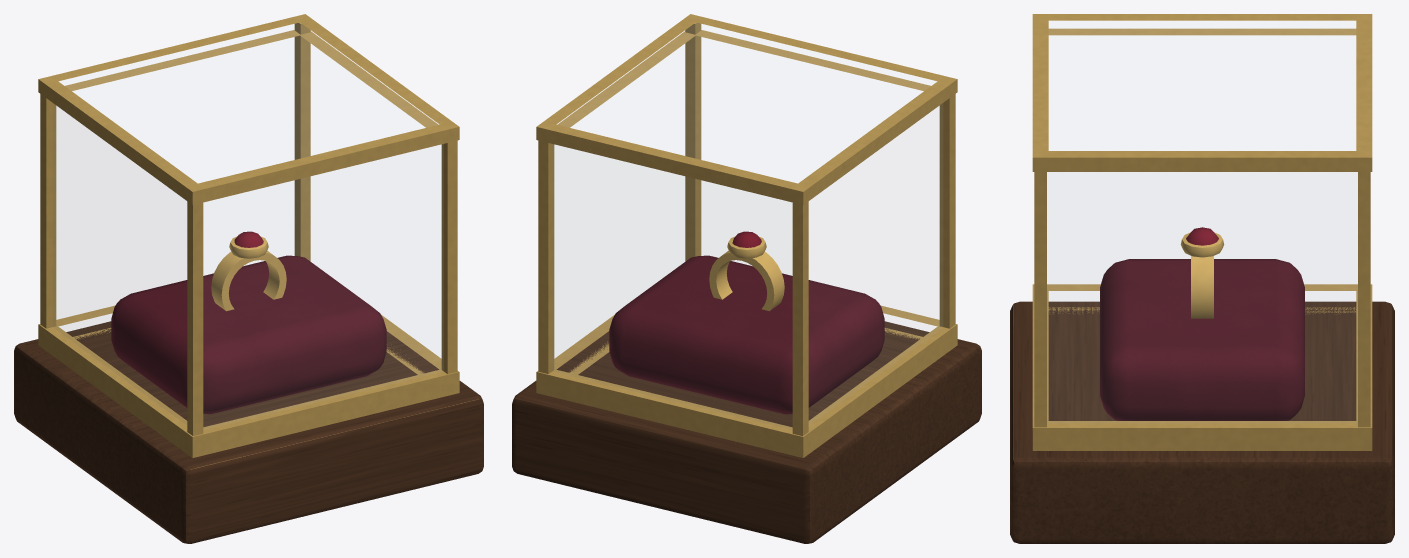
The model's file is SM_FS_CaseRing.glb.
3 renders of one model, left to right at view 1: azimuth 30°, elevation 25°; view 2: azimuth 150°, elevation 25°; view 3: azimuth 270°, elevation 25°, orthographic. The views are drawn at different scales.
Parts seen in each view (by area): view 1: SM_FS_CaseRing; view 2: SM_FS_CaseRing; view 3: SM_FS_CaseRing.
Boxes of the visible parts, x1,y1,x2,y2 form: SM_FS_CaseRing: [14, 14, 483, 543]; SM_FS_CaseRing: [512, 14, 981, 543]; SM_FS_CaseRing: [1010, 14, 1394, 543].
Bounding box in the file's own units: 0.12 × 0.131 × 0.12.
Materials: 2 (1 with a texture image).
